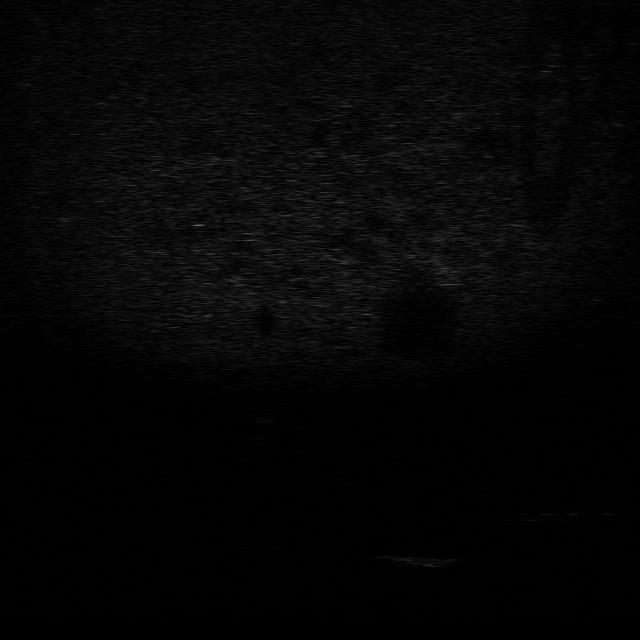ball: (241, 403, 284, 424)
metal bucket: (374, 549, 471, 573)
tyre: (496, 504, 594, 527)
